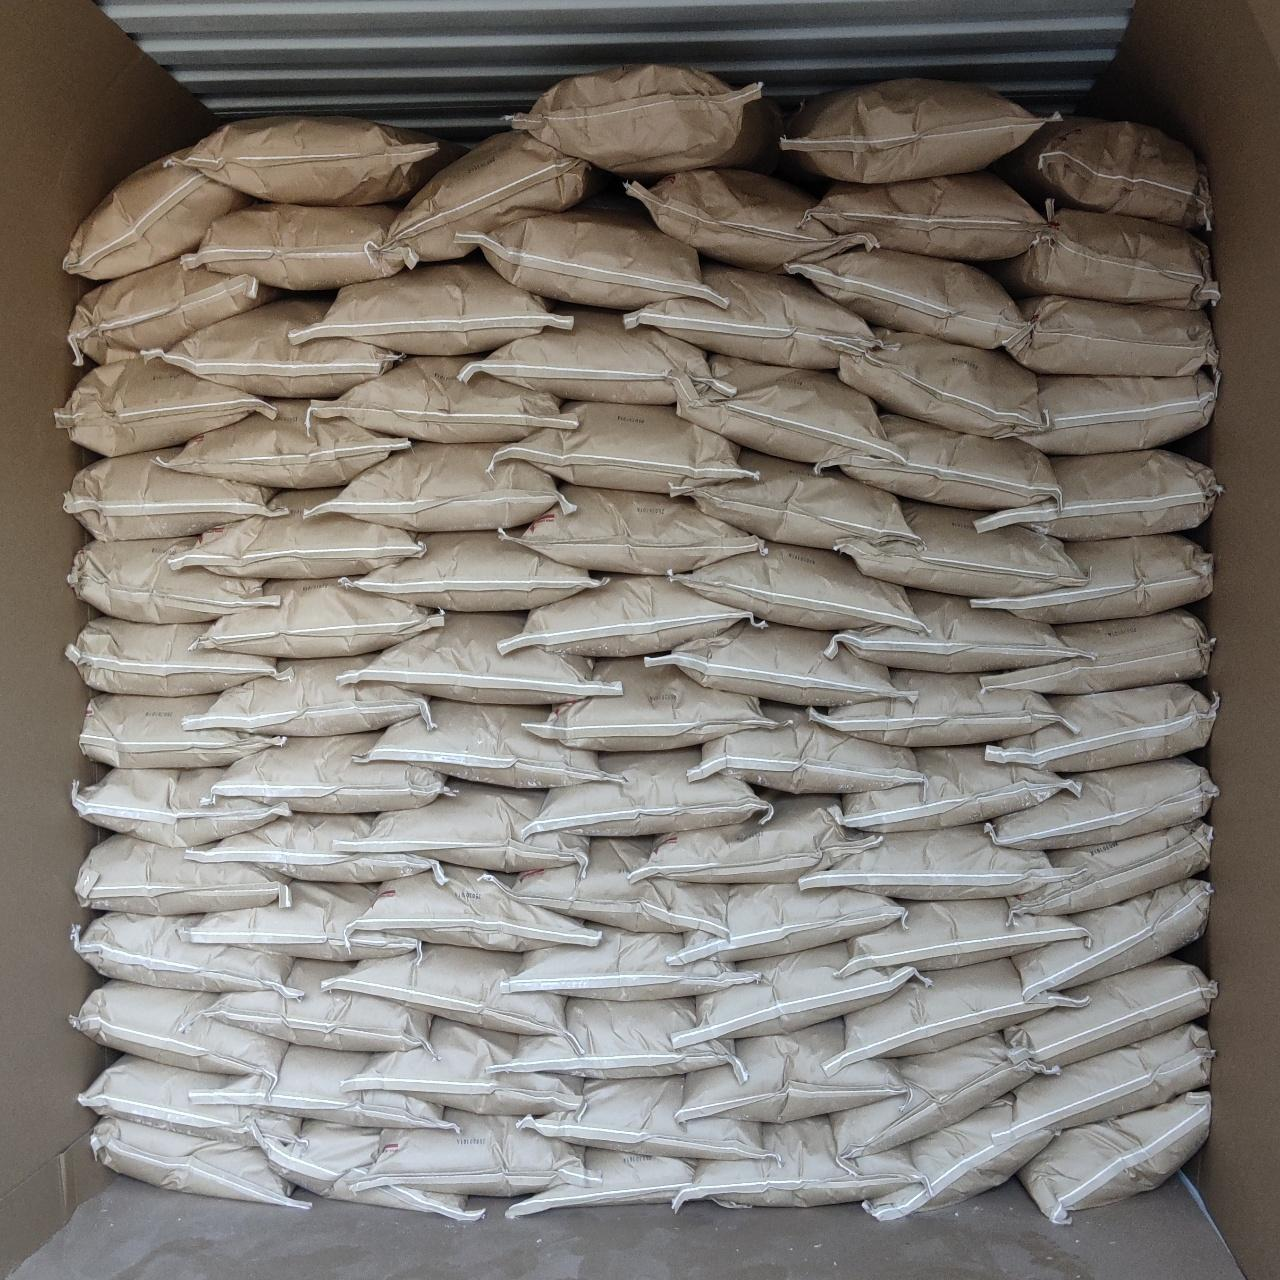sack: (380, 130, 613, 268), (821, 959, 1087, 1075), (510, 65, 780, 177), (829, 1032, 1059, 1159), (457, 206, 728, 310), (780, 78, 1043, 183), (672, 941, 921, 1049), (289, 261, 572, 355), (626, 263, 879, 368), (166, 116, 464, 205), (458, 309, 736, 404), (624, 169, 879, 272), (983, 199, 1219, 309), (672, 354, 900, 467), (338, 613, 620, 704), (990, 116, 1212, 231), (488, 402, 757, 496), (142, 299, 400, 397), (1019, 1091, 1210, 1223), (1007, 1023, 1214, 1144), (669, 448, 919, 548), (479, 839, 728, 937), (305, 442, 576, 532), (786, 246, 1022, 348), (501, 484, 768, 574), (1013, 878, 1211, 999), (677, 1019, 906, 1123), (179, 959, 435, 1052), (672, 1116, 920, 1212), (341, 1017, 583, 1115), (644, 618, 916, 705), (841, 501, 1084, 598), (63, 156, 252, 280), (251, 1120, 483, 1221), (188, 1045, 457, 1132), (307, 356, 576, 443), (814, 414, 1060, 509), (334, 782, 587, 874), (522, 660, 777, 751), (1004, 956, 1216, 1065), (355, 701, 619, 788), (667, 545, 924, 634), (167, 489, 422, 578), (838, 329, 1048, 437), (321, 943, 564, 1036), (521, 748, 772, 837), (866, 1098, 1050, 1219), (79, 1055, 307, 1152), (973, 450, 1221, 539), (68, 259, 278, 364), (156, 400, 409, 487), (345, 865, 600, 951), (498, 576, 768, 657), (824, 590, 1087, 673), (687, 702, 923, 794), (70, 980, 287, 1080), (629, 797, 882, 882), (984, 757, 1217, 849), (836, 746, 1079, 834), (355, 1109, 600, 1196), (56, 359, 275, 456), (971, 534, 1212, 622), (63, 446, 291, 539), (808, 172, 1046, 261), (492, 999, 747, 1082), (339, 532, 603, 611), (183, 654, 435, 736), (985, 684, 1217, 772), (1009, 820, 1212, 920), (520, 1077, 764, 1160), (799, 824, 1069, 899), (211, 731, 457, 813), (190, 580, 443, 658), (839, 899, 1088, 978), (981, 609, 1212, 694), (666, 883, 905, 965), (72, 913, 302, 998), (90, 1118, 308, 1207), (181, 881, 419, 961), (807, 671, 1060, 746), (500, 927, 758, 1000), (183, 204, 401, 289), (1001, 368, 1216, 454), (185, 814, 445, 885), (66, 617, 292, 696), (67, 537, 277, 622), (75, 834, 290, 915), (71, 768, 289, 847), (1004, 296, 1218, 376), (79, 693, 286, 766), (506, 1147, 693, 1218), (203, 801, 208, 802)
